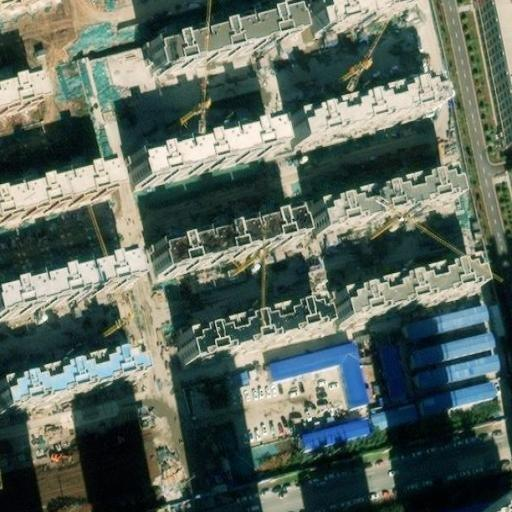building: (192, 361, 508, 468), (295, 172, 443, 241), (151, 9, 299, 73), (161, 297, 309, 361), (0, 451, 154, 512), (128, 126, 276, 189), (153, 216, 301, 279), (316, 257, 464, 320), (0, 356, 139, 423), (0, 256, 137, 317), (293, 90, 424, 151), (465, 0, 512, 149), (0, 166, 116, 222), (75, 46, 148, 109), (301, 0, 398, 43), (400, 301, 487, 341), (405, 331, 493, 370), (0, 77, 46, 114)
